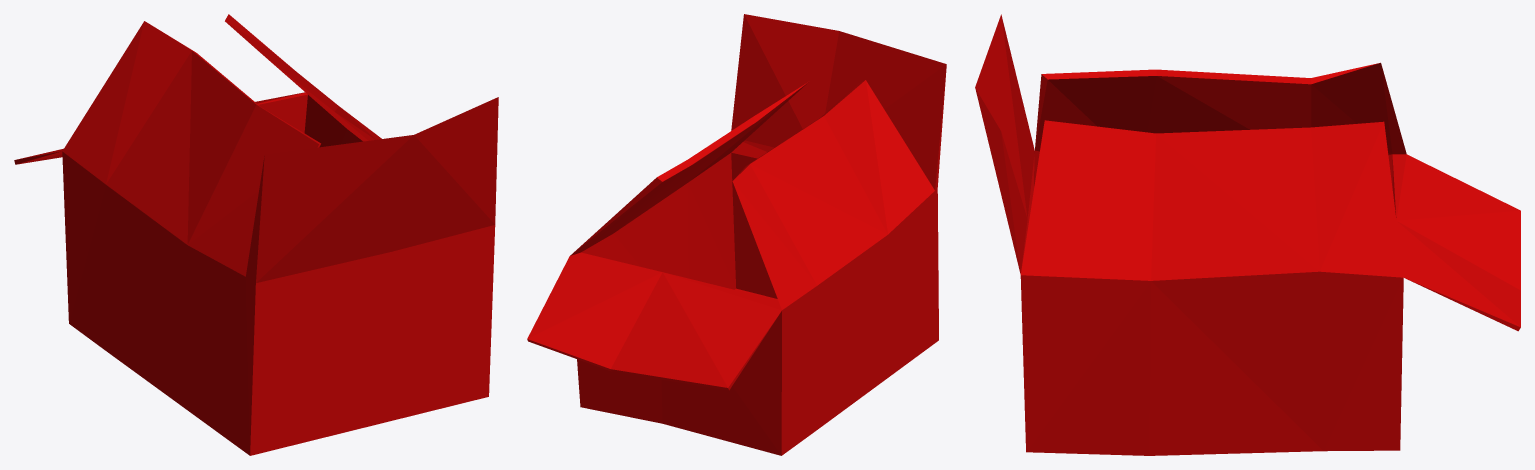
3 renders of one model, left to right at view 1: azimuth 30°, elevation 25°; view 2: azimuth 150°, elevation 25°; view 3: azimuth 270°, elevation 25°, orthographic. The views are drawn at different scales.
Visible parts, largest first — view 1: Mesh; view 2: Mesh; view 3: Mesh.
Boxes of the visible parts, left/top/right/bottom form: Mesh: left=14, top=14, right=498, bottom=455; Mesh: left=527, top=14, right=946, bottom=455; Mesh: left=975, top=14, right=1520, bottom=455.
Size of the model in its own units: 0.6294 by 0.7631 by 1.17.
